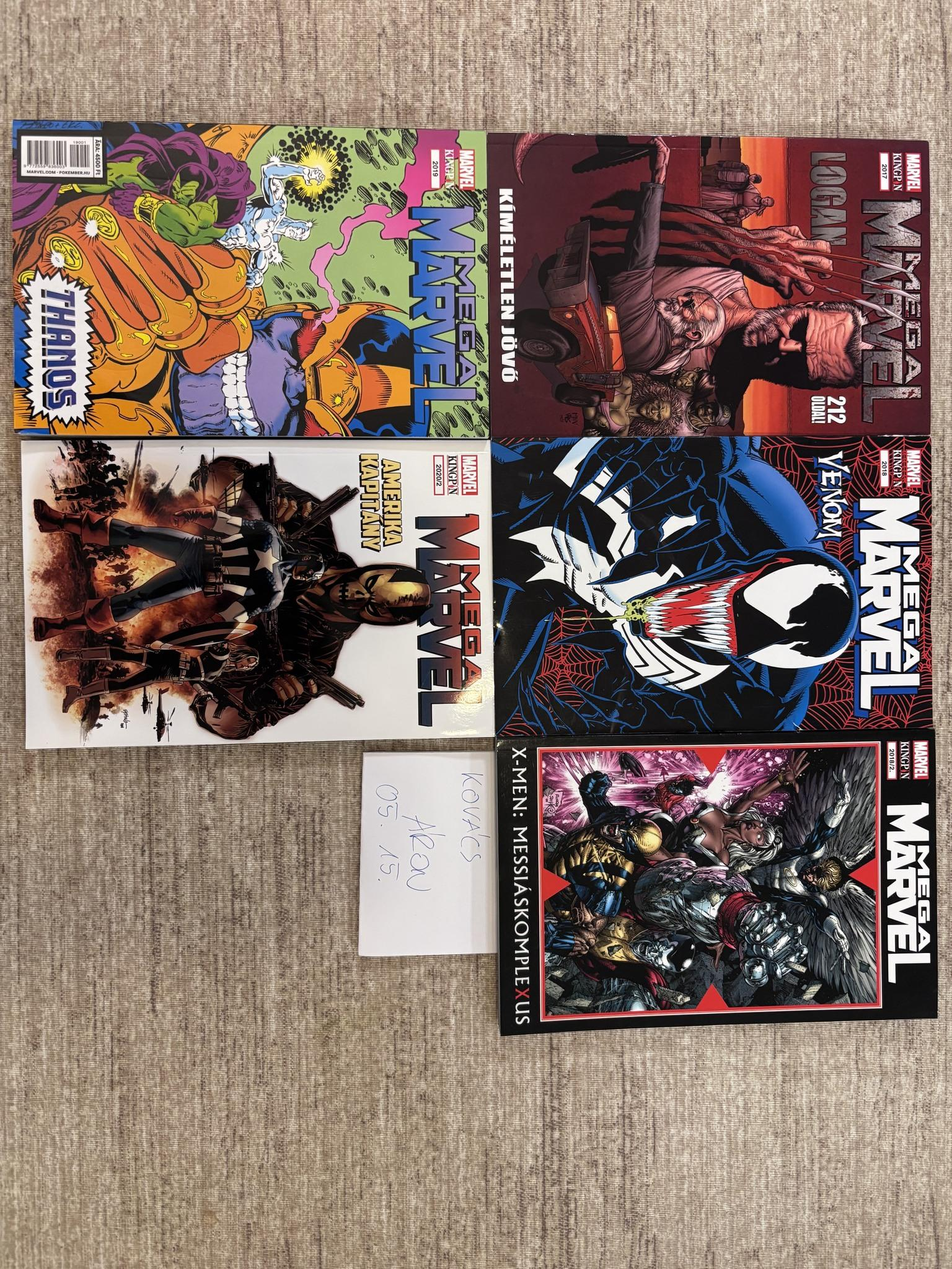comic: (12, 120, 490, 439), (22, 433, 493, 747), (494, 730, 938, 1034), (493, 432, 934, 737), (488, 133, 928, 437)
